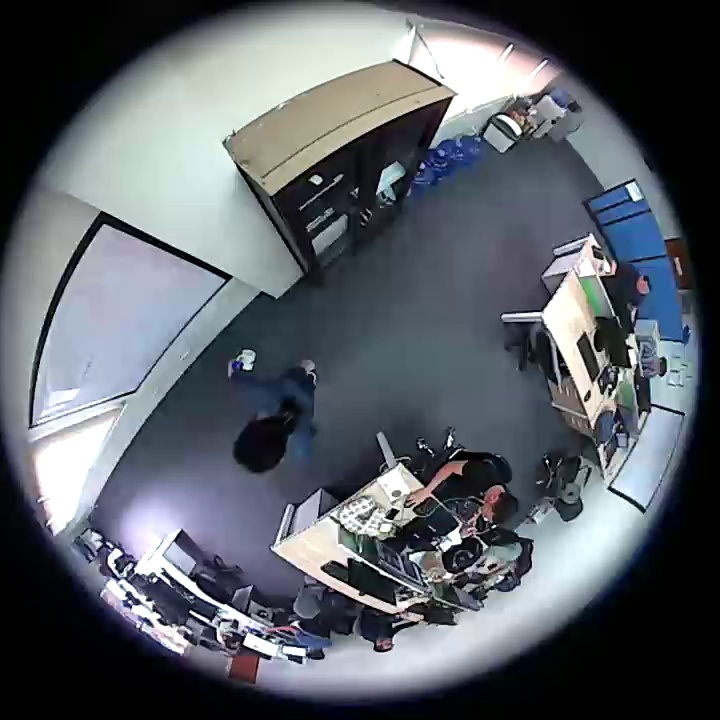RBC: (229, 356, 326, 475), (406, 459, 519, 536), (358, 603, 420, 653), (483, 537, 532, 598), (261, 620, 332, 661), (610, 260, 652, 317), (638, 338, 667, 382), (215, 619, 239, 651)
